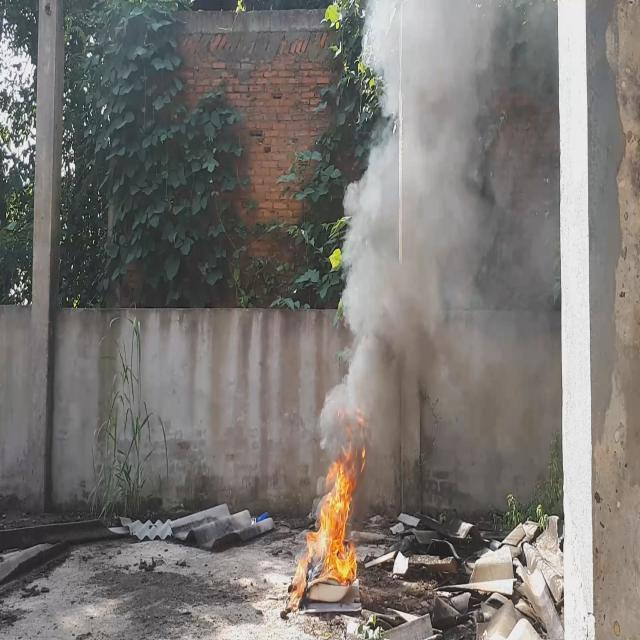Fire: (289, 438, 360, 613)
Smoke: (314, 0, 560, 510)
